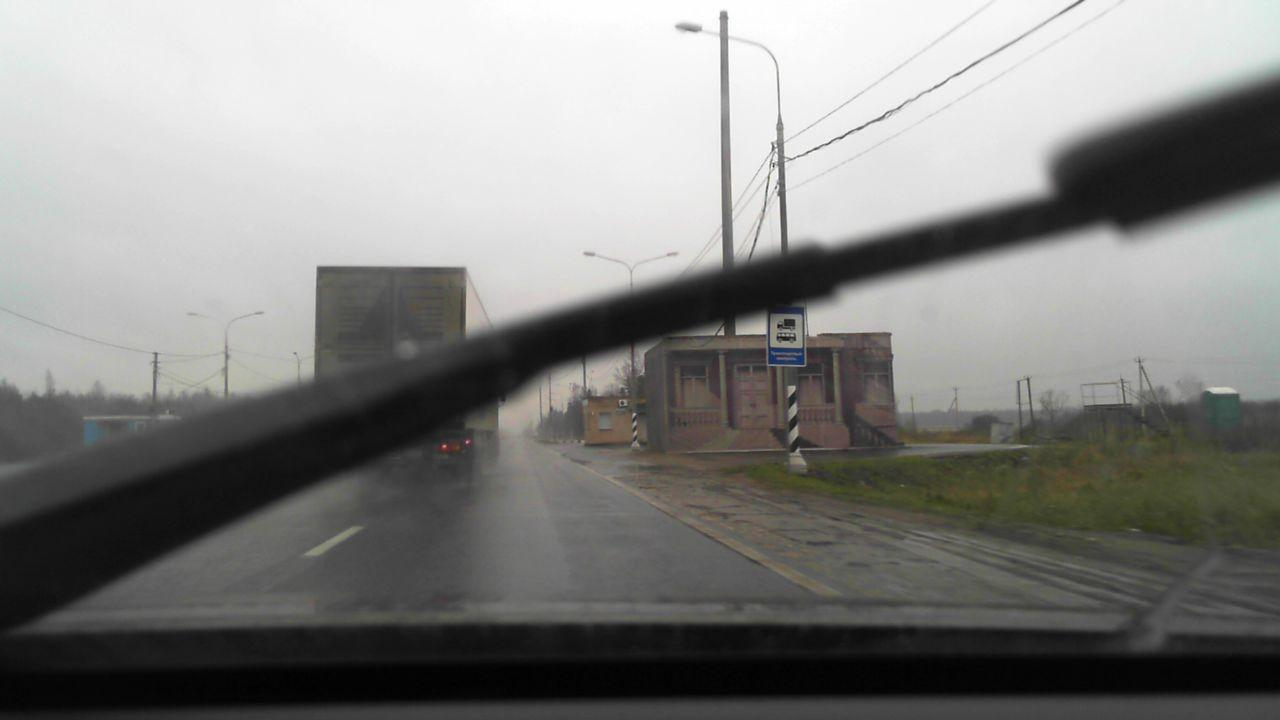7_14_2: (767, 306, 806, 366)
